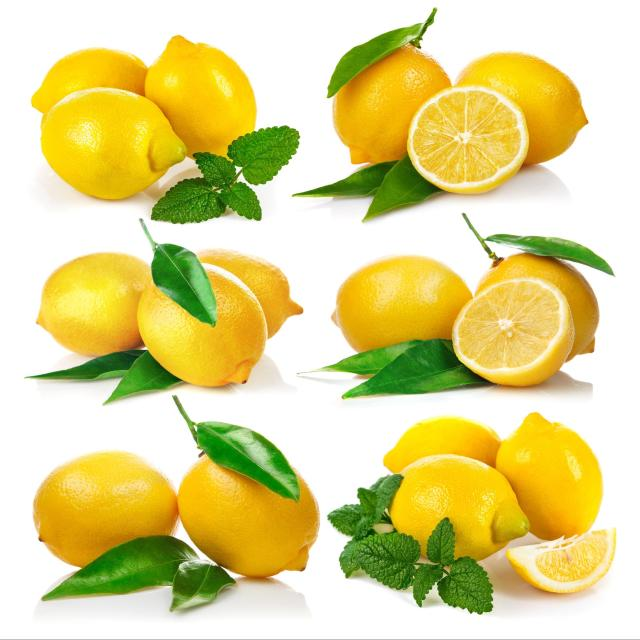lemon: (170, 390, 322, 585), (402, 80, 535, 199), (447, 275, 580, 390)
